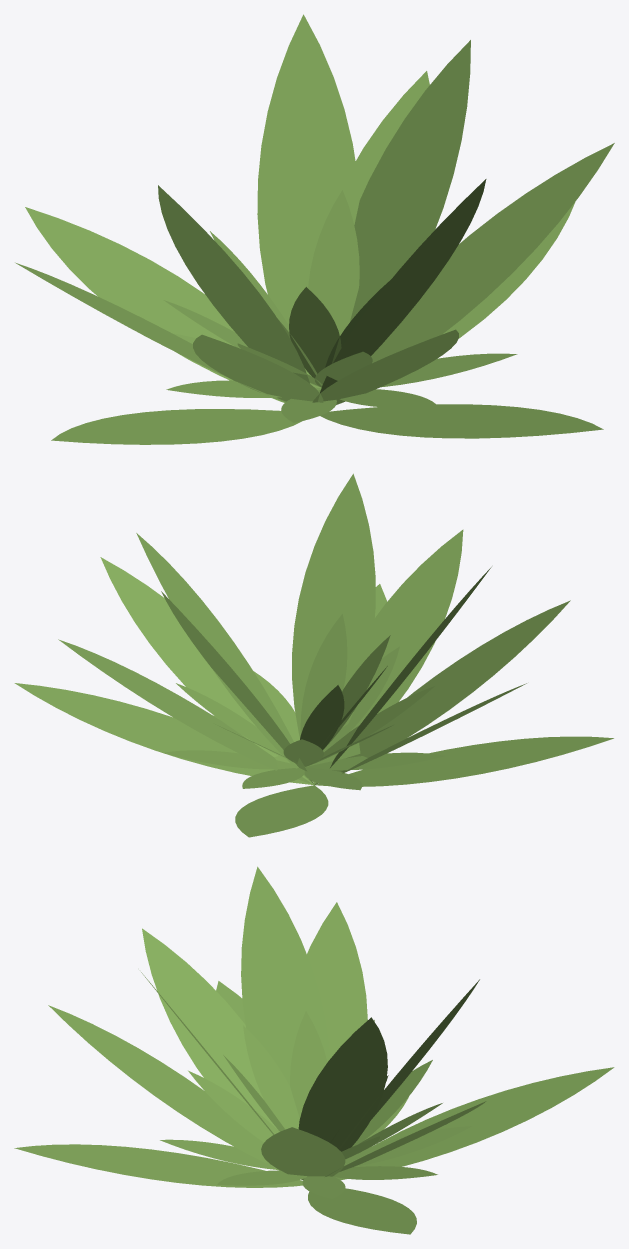
The model's file is Plant_Brush_05.fbx.
The picture shows the model from 3 angles, top to bottom: view 1: azimuth 30°, elevation 25°; view 2: azimuth 150°, elevation 25°; view 3: azimuth 270°, elevation 25°; orthographic projection. The views are drawn at different scales.
Parts seen in each view (by area): view 1: Model; view 2: Model; view 3: Model.
Boxes of the visible parts, box(x1,y1,x2,y2) form: Model: box(15, 14, 614, 444); Model: box(14, 473, 613, 837); Model: box(14, 866, 614, 1234).
Size of the model in its own units: 599 by 266 by 599.
